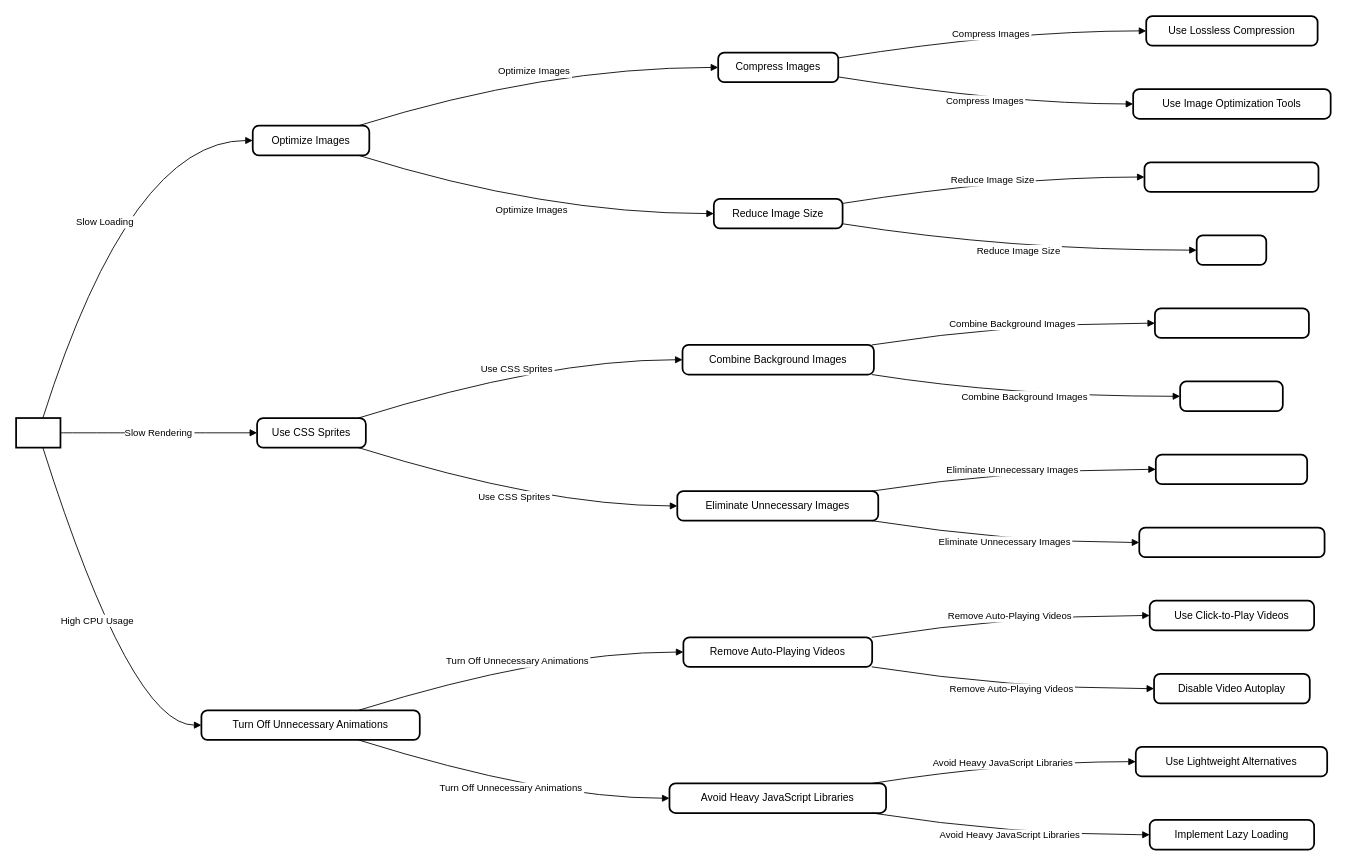
The diagram is 1346 pixels wide and 865 high, and some of its shapes have lost their labels. The box of each missing label's shape, as (x1, y1, x2, y2) in pixels:
Delete Unused Images: (1154, 453, 1308, 485)
Merge Multiple Images: (1154, 307, 1309, 338)
Reduce Image Dimensions: (1143, 161, 1319, 192)
Remove Background Images: (1138, 526, 1325, 558)
Start: (15, 417, 61, 448)
Use Data URLs: (1179, 380, 1283, 412)
Use SVGs: (1195, 234, 1267, 265)
